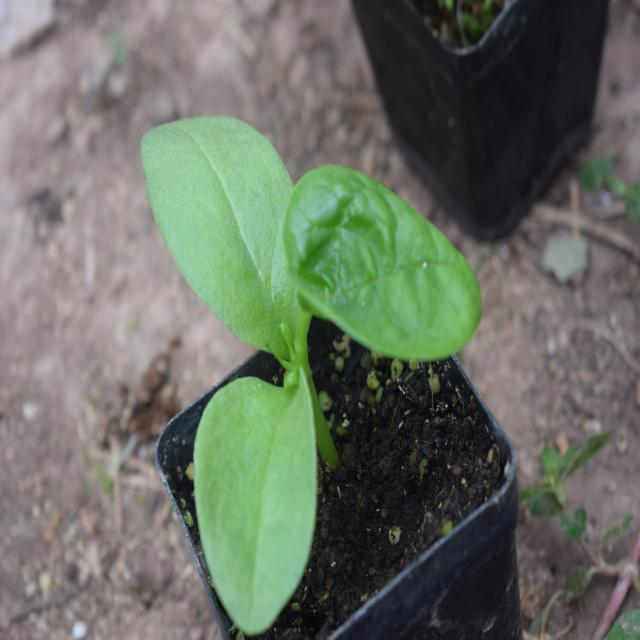Ceylon spinach: (153, 106, 482, 539)
